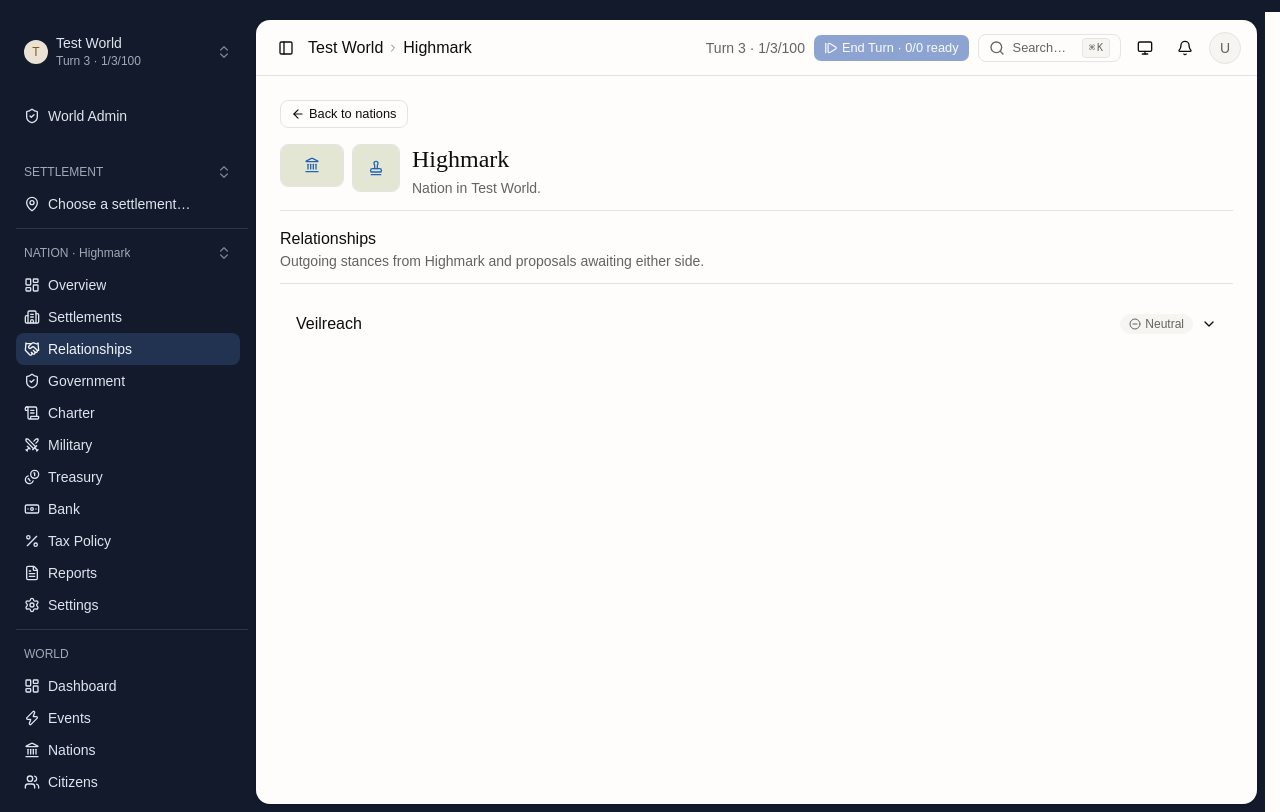
Test: nation detail route › section reachability › renders relationships + admin proposal controls at /relationships
Expected: the heading "Highmark" is shown, [412,146,509,172]
Click the button "Veilreach Neutral": click(329, 324) [280,300,1233,348]
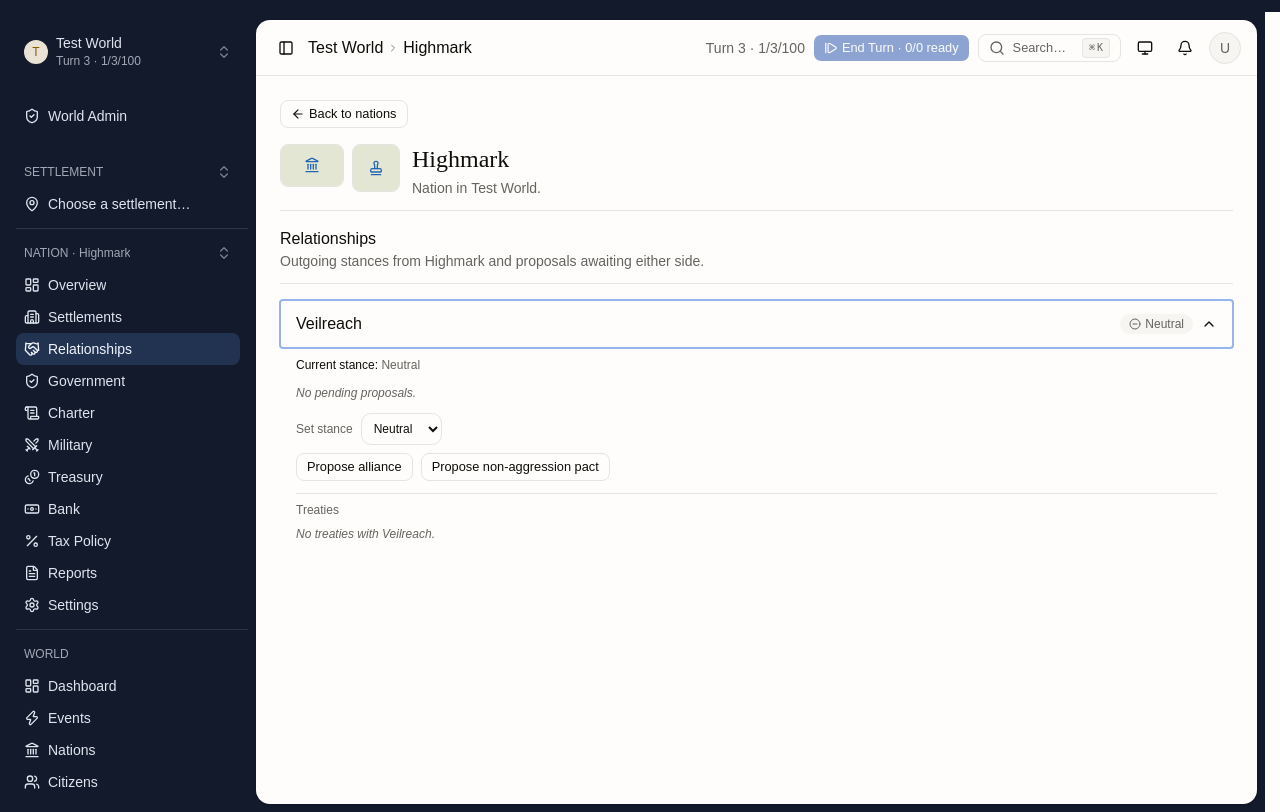
Now the button "Propose alliance" is shown, box [296,453,413,481]
